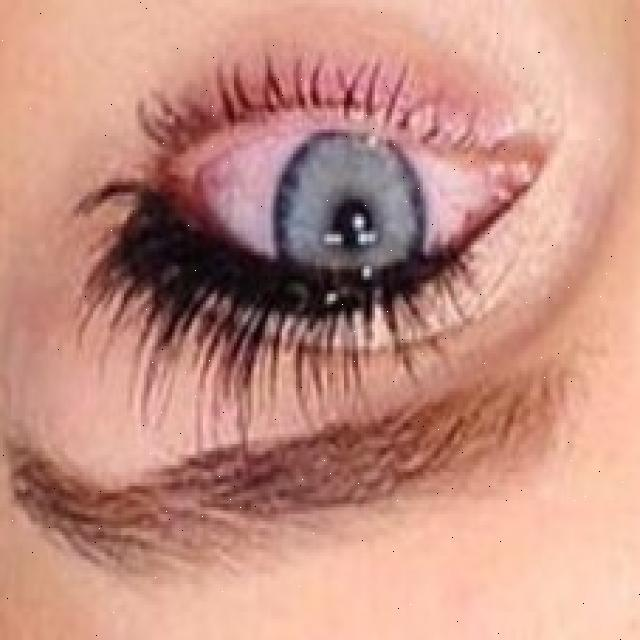Normal: (276, 122, 423, 324)
